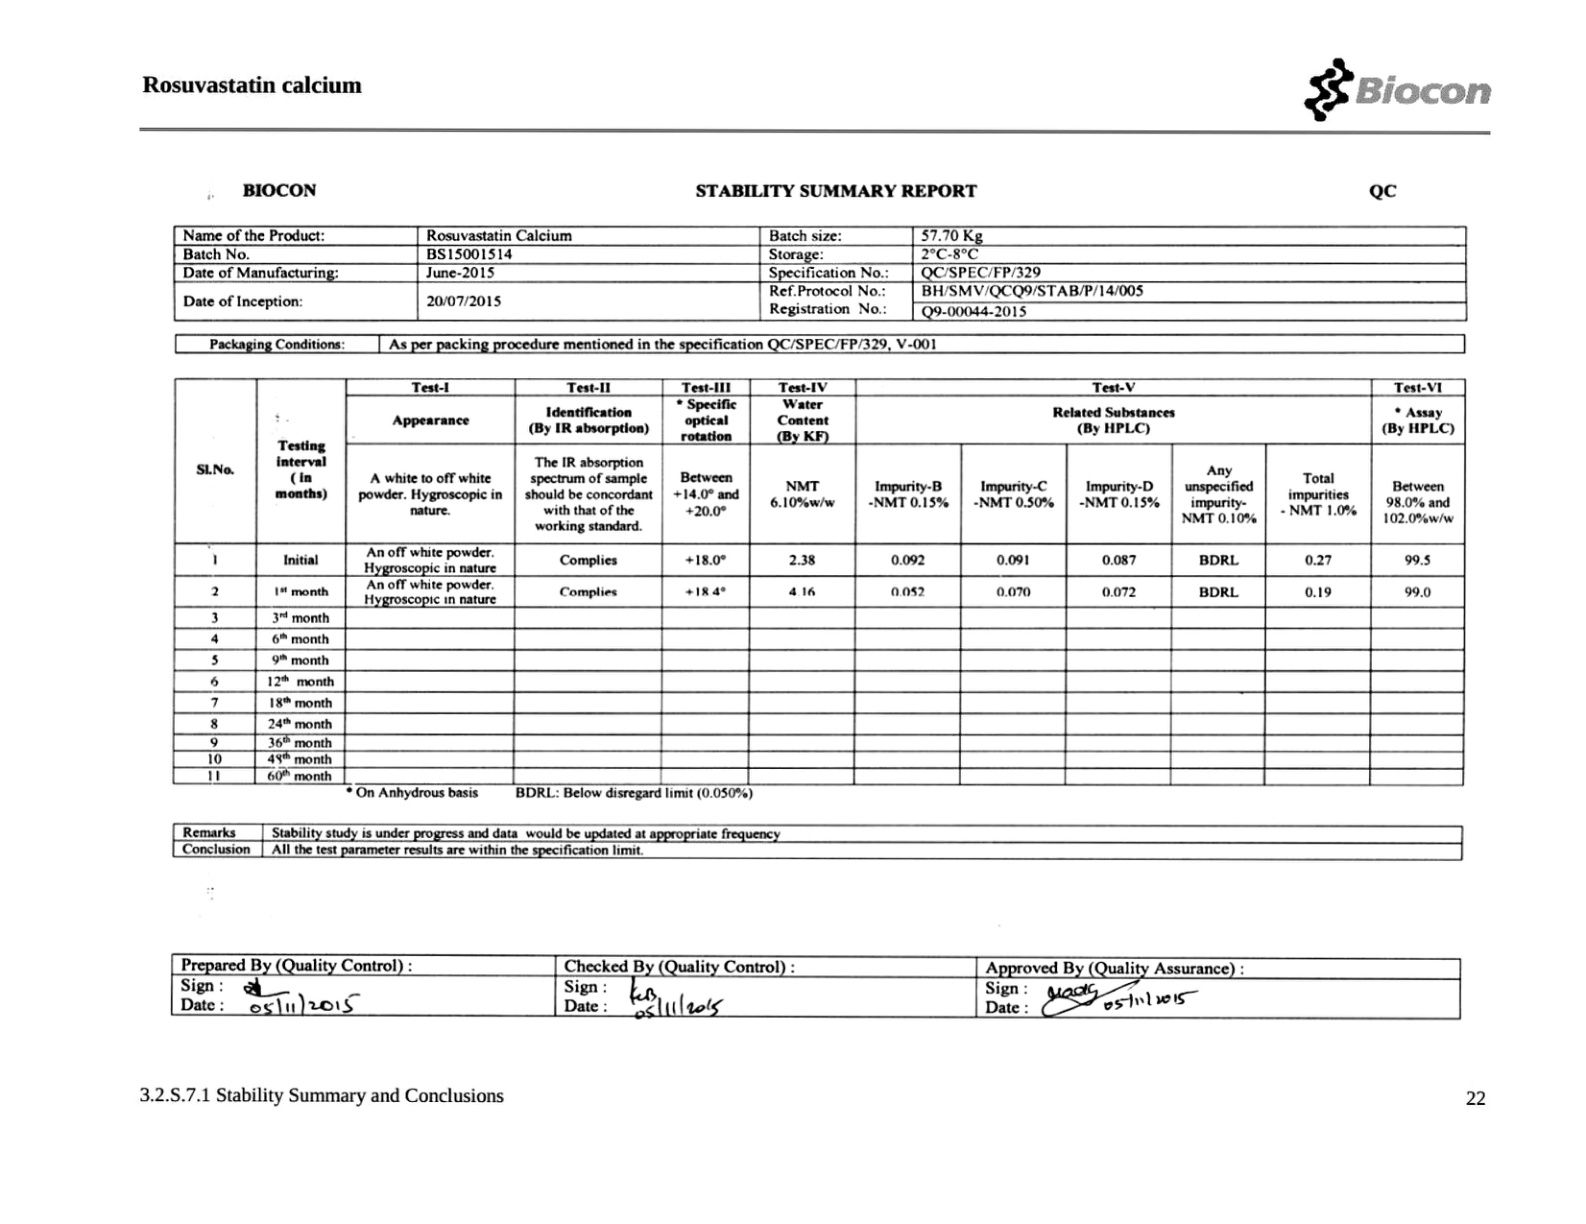full_lined: (171, 823, 1464, 861), (174, 333, 1466, 354)
merged_cells: (174, 377, 1466, 786), (172, 225, 1468, 321)
partial_lined_merged_cells: (170, 951, 1463, 1020)
